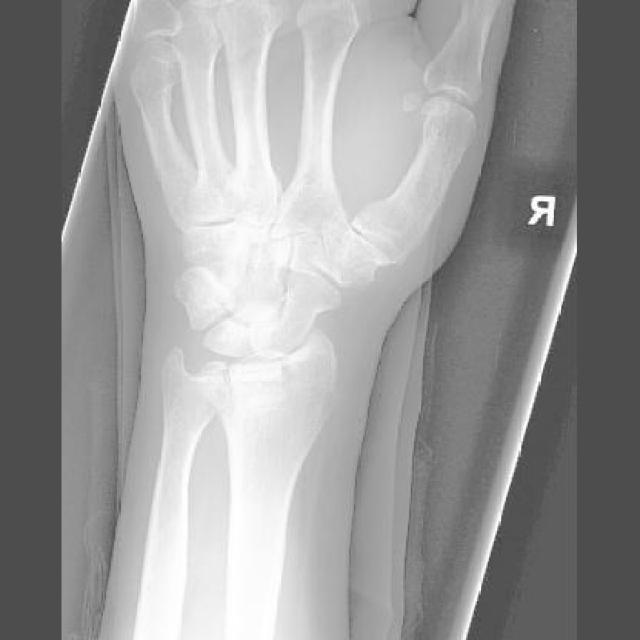Fracture: (275, 352, 348, 420)
